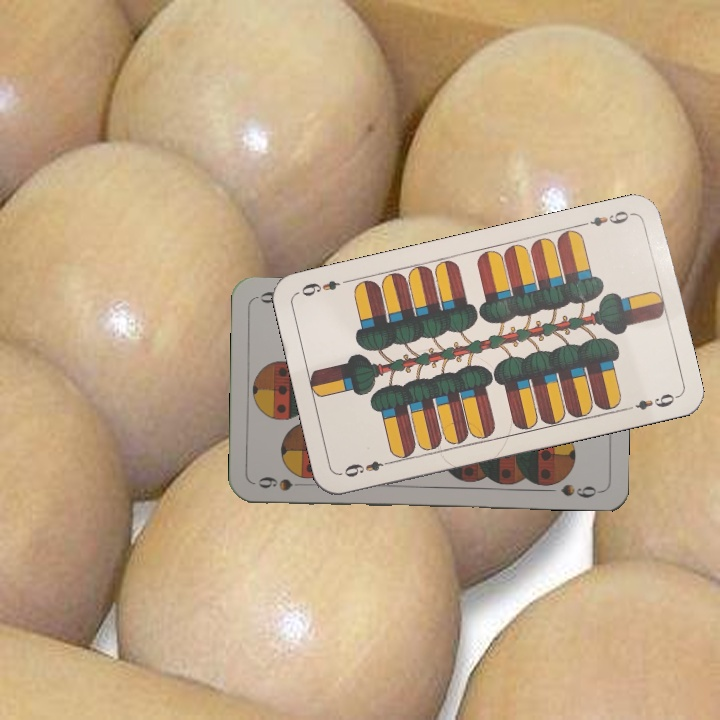E9: (577, 206, 636, 229), (340, 456, 396, 480)
S9: (254, 473, 312, 493)
